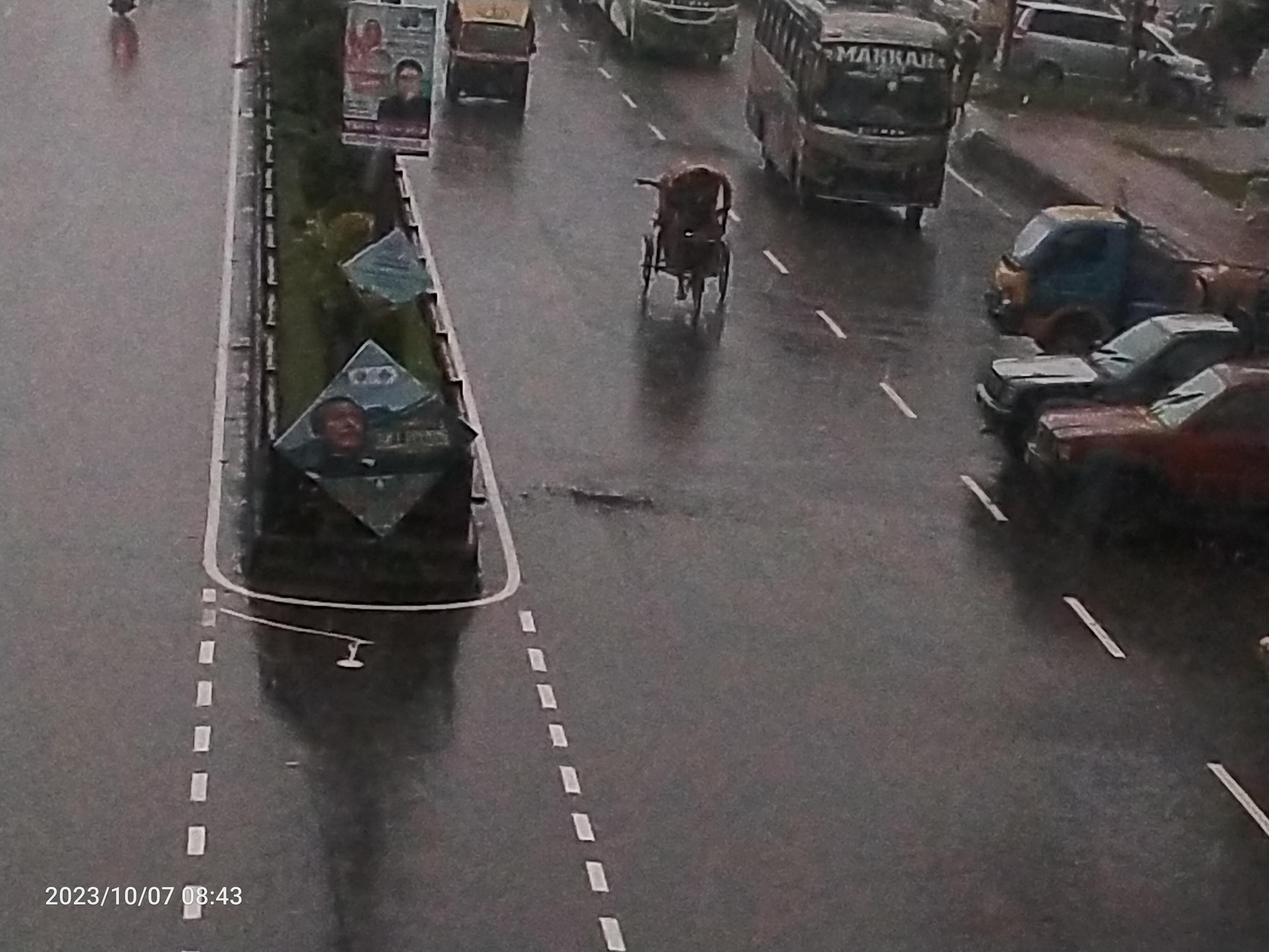Bus: (722, 0, 982, 251)
Car: (971, 0, 1257, 134), (600, 140, 771, 352), (411, 0, 565, 151)
Truck: (955, 182, 1269, 358), (1014, 352, 1269, 556)
